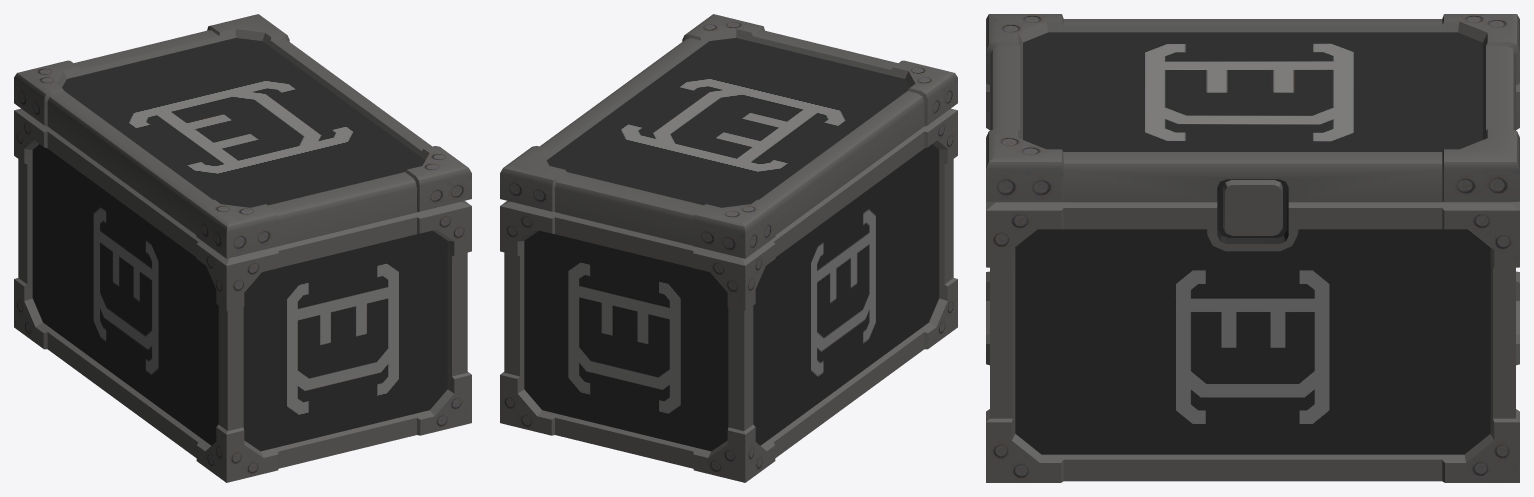
The model's file is scifi box rectangle.glb.
The picture shows the model from 3 angles, left to right: view 1: azimuth 30°, elevation 25°; view 2: azimuth 150°, elevation 25°; view 3: azimuth 270°, elevation 25°; orthographic projection. The views are drawn at different scales.
Parts seen in each view (by area): view 1: PropBox_Rectangle; view 2: PropBox_Rectangle; view 3: PropBox_Rectangle.
Part boxes in pixels (left/top/right/bottom): PropBox_Rectangle: left=14, top=14, right=471, bottom=482; PropBox_Rectangle: left=500, top=14, right=957, bottom=482; PropBox_Rectangle: left=986, top=14, right=1519, bottom=482.
Bounding box in the file's own units: 1 × 1 × 1.5.
1 material, 1 textured.
